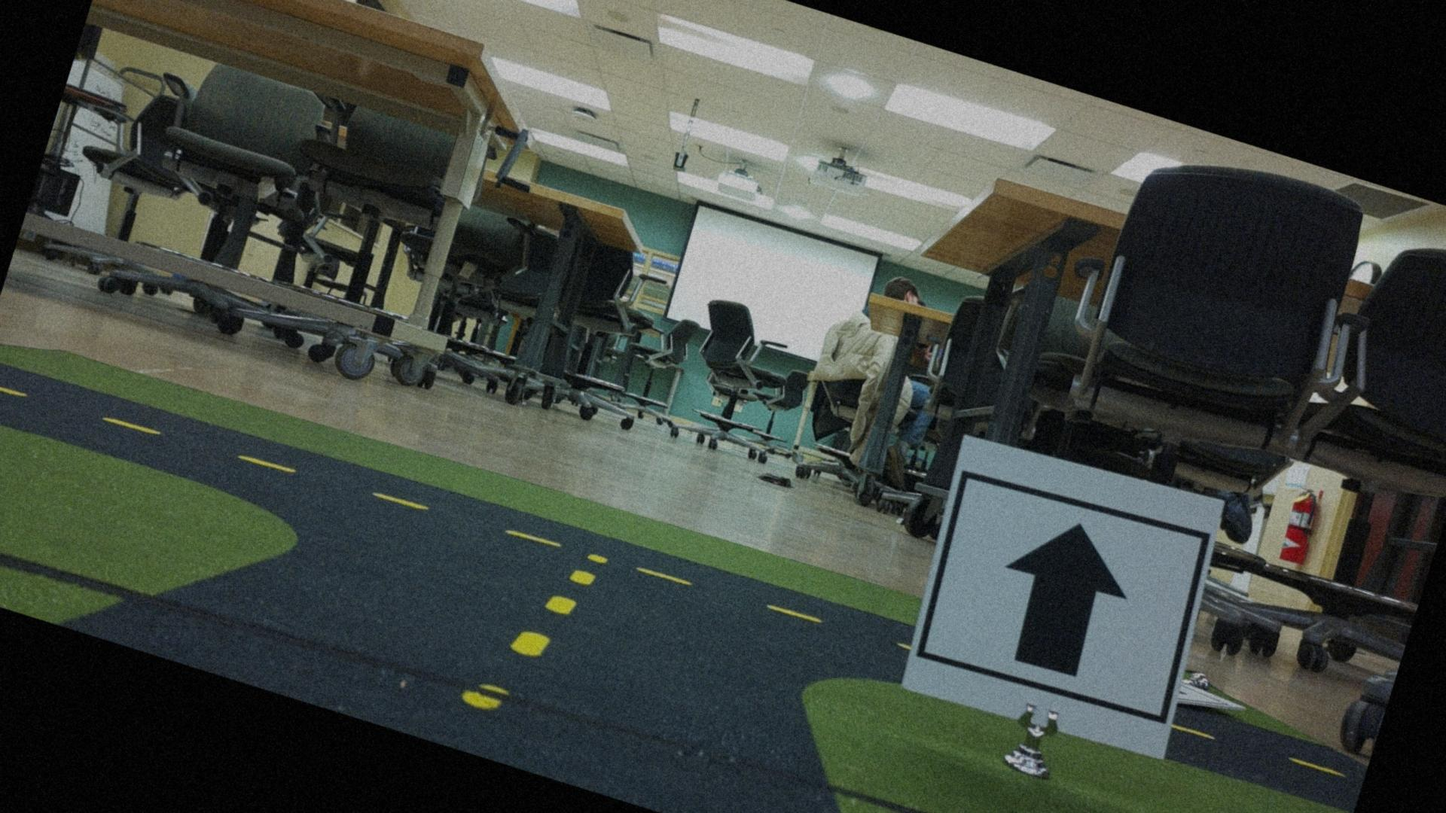gostraight: (905, 441, 1216, 742)
yellowline: (0, 361, 428, 522), (469, 530, 606, 732), (636, 559, 821, 631)
